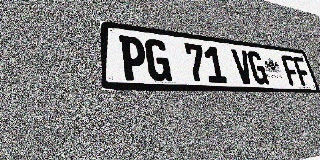1: (202, 45, 227, 83)
7: (183, 43, 209, 83)
F: (280, 55, 302, 86), (292, 56, 313, 86)
G: (144, 38, 172, 82), (246, 51, 269, 85)
P: (119, 35, 148, 81)
V: (231, 49, 255, 84)
